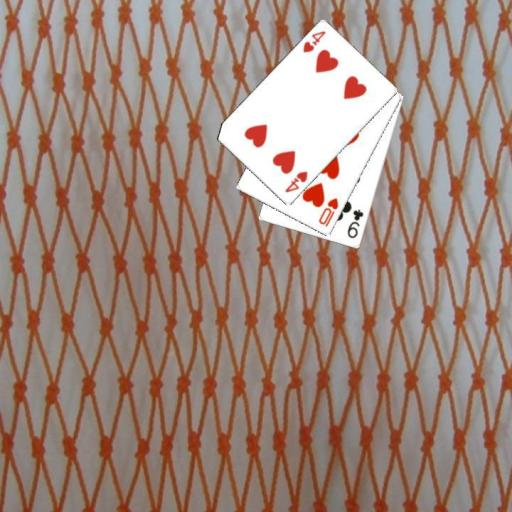10H: (316, 195, 340, 228)
4H: (282, 168, 309, 195), (300, 28, 327, 55)
9C: (344, 206, 365, 240)
